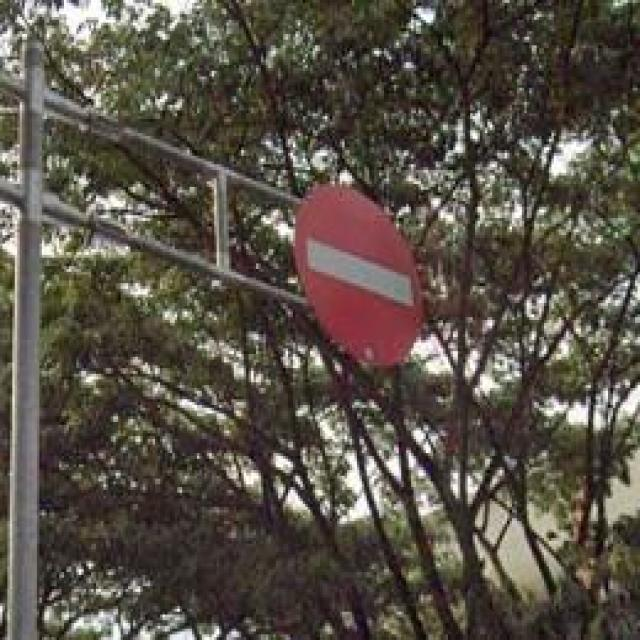traffic sign: (295, 187, 426, 366)
